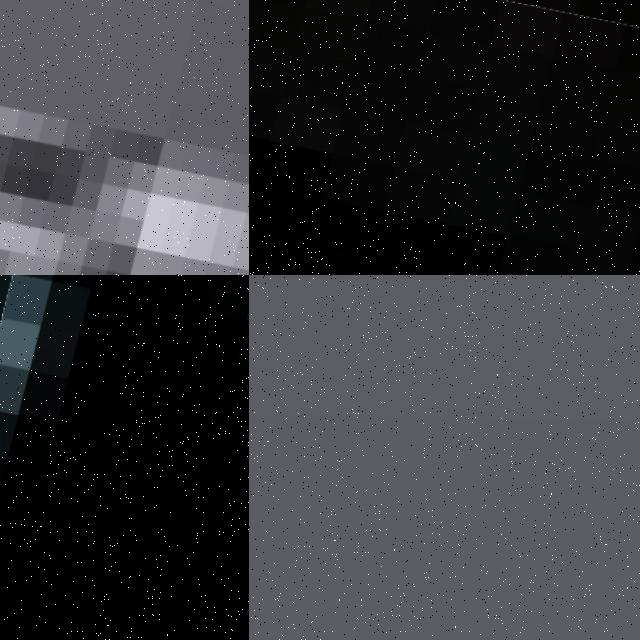0: (0, 0, 249, 275)
drone: (249, 0, 640, 275), (0, 275, 249, 640)
